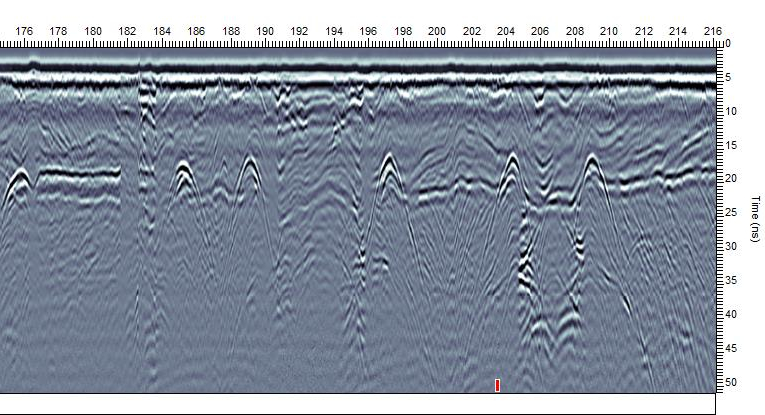hyperbola: (578, 151, 609, 217), (236, 151, 270, 206), (170, 157, 200, 209), (376, 149, 405, 201), (497, 147, 523, 201)
